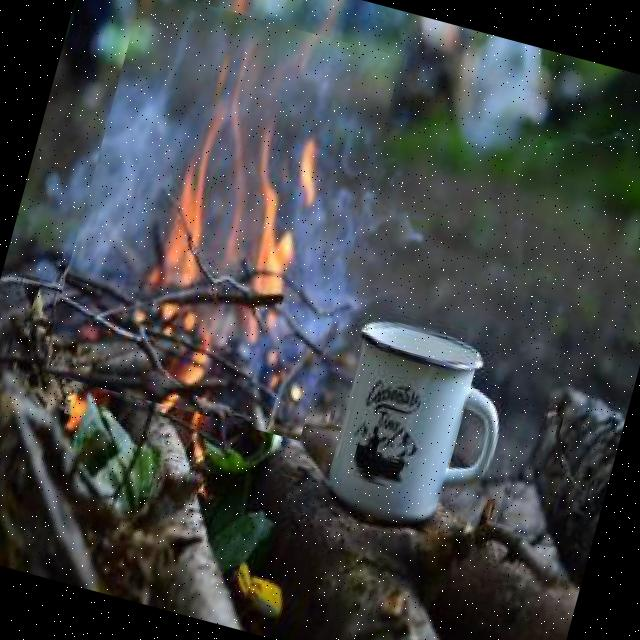fire: (40, 0, 402, 441)
